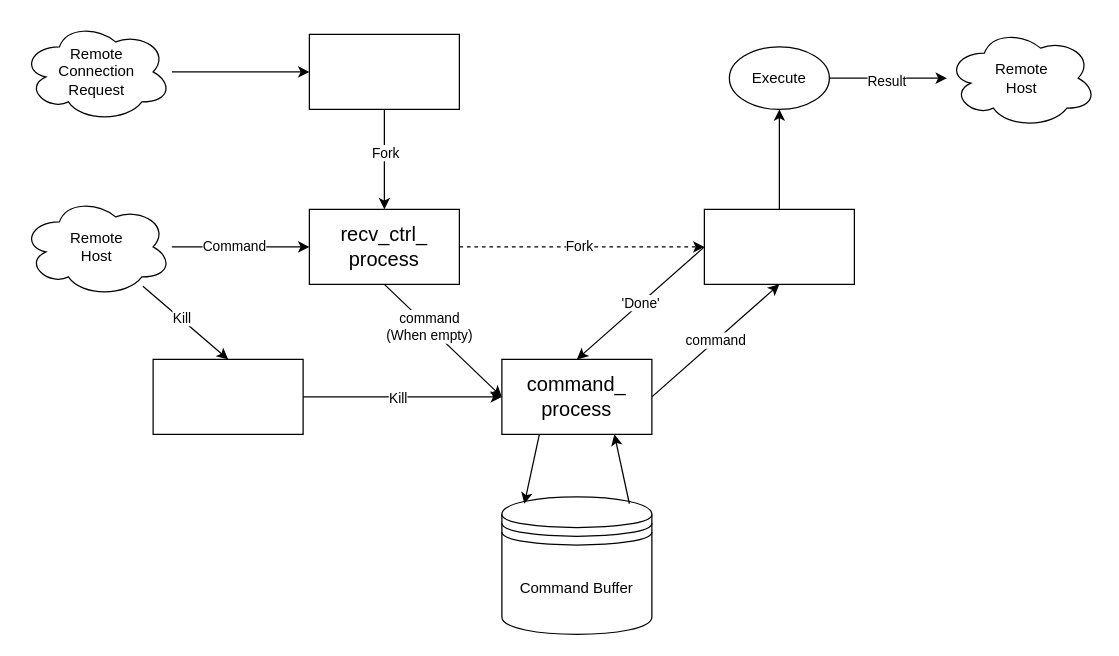
The diagram is 1119 pixels wide and 656 high, and some of its shapes have lost their labels. The shapes that lost their labels are listed below. From the top down, each one's centre as x and y in pixels, then its label:
At [383,71]: "server_run_ process".
At [778,246]: "exec_process".
At [227,396]: "NVT Client".
